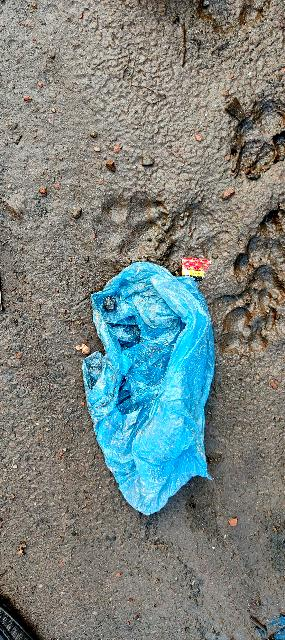polythene: (87, 259, 219, 517)
